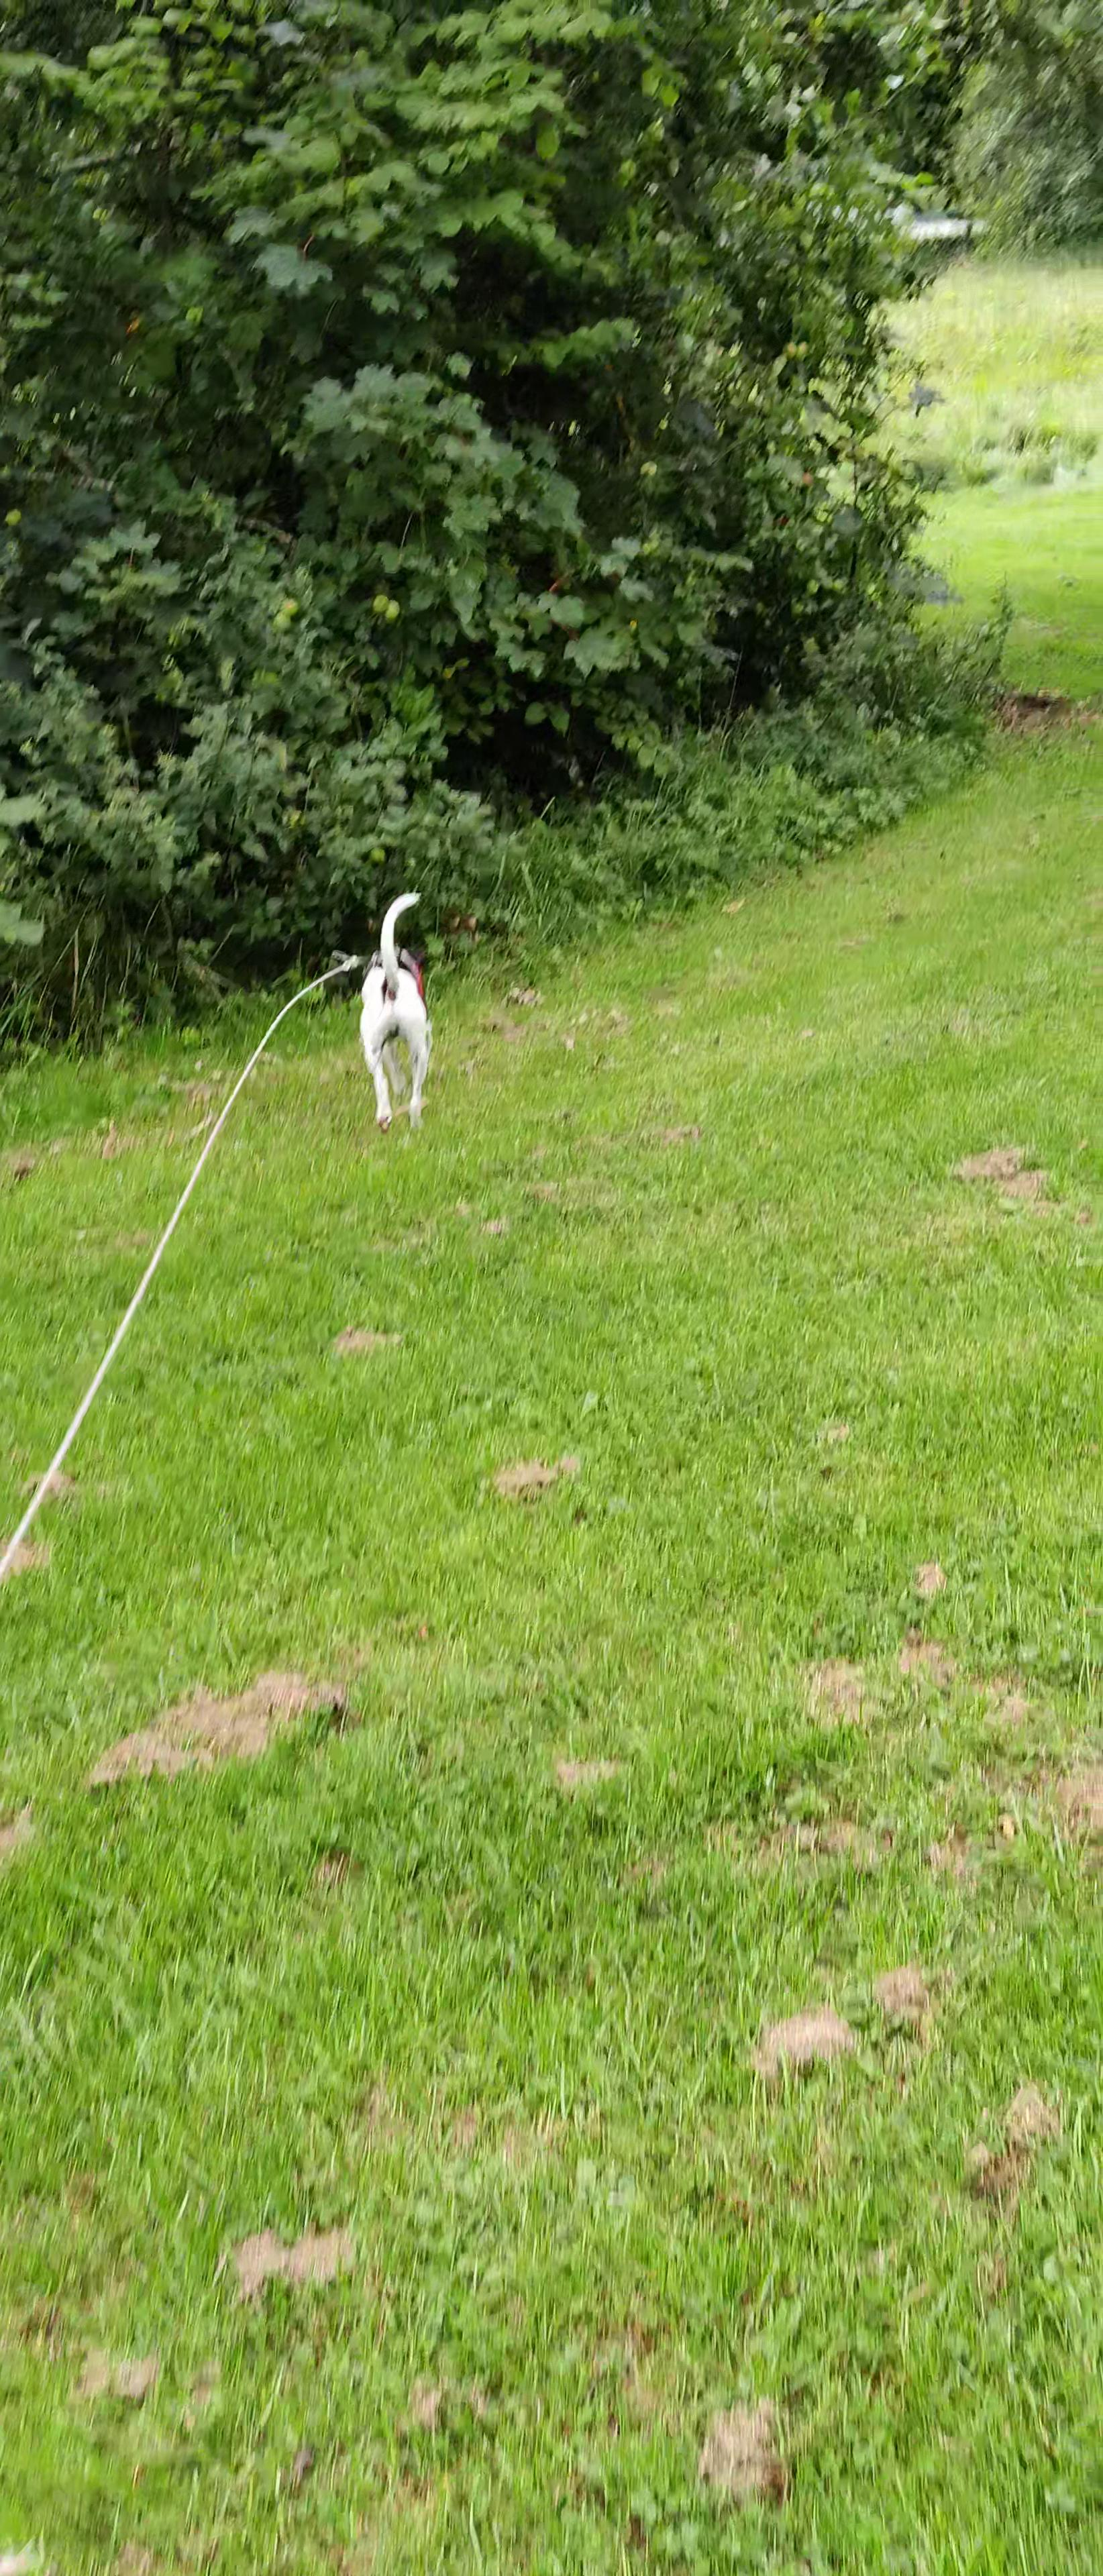Dog: (348, 885, 444, 1135)
